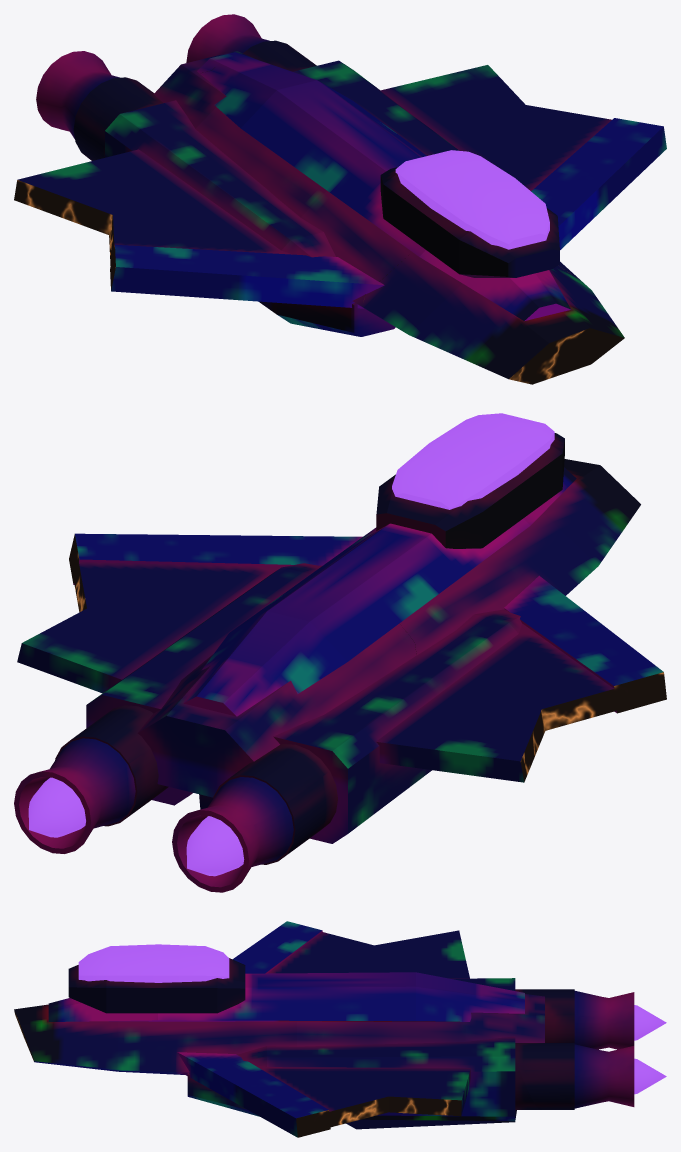
Rendered from drone_wreck.glb.
3 views of the same model, one above another, from view 1: azimuth 30°, elevation 25°; view 2: azimuth 150°, elevation 25°; view 3: azimuth 270°, elevation 25° (orthographic). The views are drawn at different scales.
Parts seen in each view (by area): view 1: drone_wreck_01, drone_wreck_07, drone_wreck_02, drone_wreck_06, drone_wreck_10, drone_wreck_08, drone_wreck_11, drone_wreck_09, drone_wreck_00; view 2: drone_wreck_06, drone_wreck_02, drone_wreck_10, drone_wreck_00, drone_wreck_07, drone_wreck_08, drone_wreck_01, drone_wreck_09, drone_wreck_11; view 3: drone_wreck_08, drone_wreck_01, drone_wreck_02, drone_wreck_11, drone_wreck_10, drone_wreck_00, drone_wreck_09, drone_wreck_07, drone_wreck_06.
Part boxes in pixels (bbox=[...]): drone_wreck_01: bbox=[362, 164, 624, 384]; drone_wreck_07: bbox=[109, 187, 395, 336]; drone_wreck_02: bbox=[201, 57, 483, 194]; drone_wreck_06: bbox=[14, 70, 212, 234]; drone_wreck_10: bbox=[282, 129, 499, 293]; drone_wreck_08: bbox=[438, 105, 666, 279]; drone_wreck_11: bbox=[297, 61, 525, 124]; drone_wreck_09: bbox=[36, 51, 178, 160]; drone_wreck_00: bbox=[174, 14, 339, 76]; drone_wreck_06: bbox=[240, 689, 545, 846]; drone_wreck_02: bbox=[141, 562, 439, 700]; drone_wreck_10: bbox=[306, 450, 557, 642]; drone_wreck_00: bbox=[14, 681, 243, 853]; drone_wreck_07: bbox=[415, 590, 666, 730]; drone_wreck_08: bbox=[69, 533, 362, 622]; drone_wreck_01: bbox=[417, 413, 640, 595]; drone_wreck_09: bbox=[172, 733, 312, 892]; drone_wreck_11: bbox=[17, 608, 213, 809]; drone_wreck_08: bbox=[136, 1023, 388, 1137]; drone_wreck_01: bbox=[14, 944, 183, 1073]; drone_wreck_02: bbox=[311, 972, 509, 1081]; drone_wreck_11: bbox=[353, 1008, 538, 1129]; drone_wreck_10: bbox=[172, 945, 328, 1041]; drone_wreck_00: bbox=[502, 990, 666, 1109]; drone_wreck_09: bbox=[541, 989, 666, 1049]; drone_wreck_07: bbox=[232, 921, 377, 973]; drone_wreck_06: bbox=[374, 930, 543, 995].
Size of the model in its own units: 2.4 by 0.9469 by 3.29.
8 materials, 6 textured.
